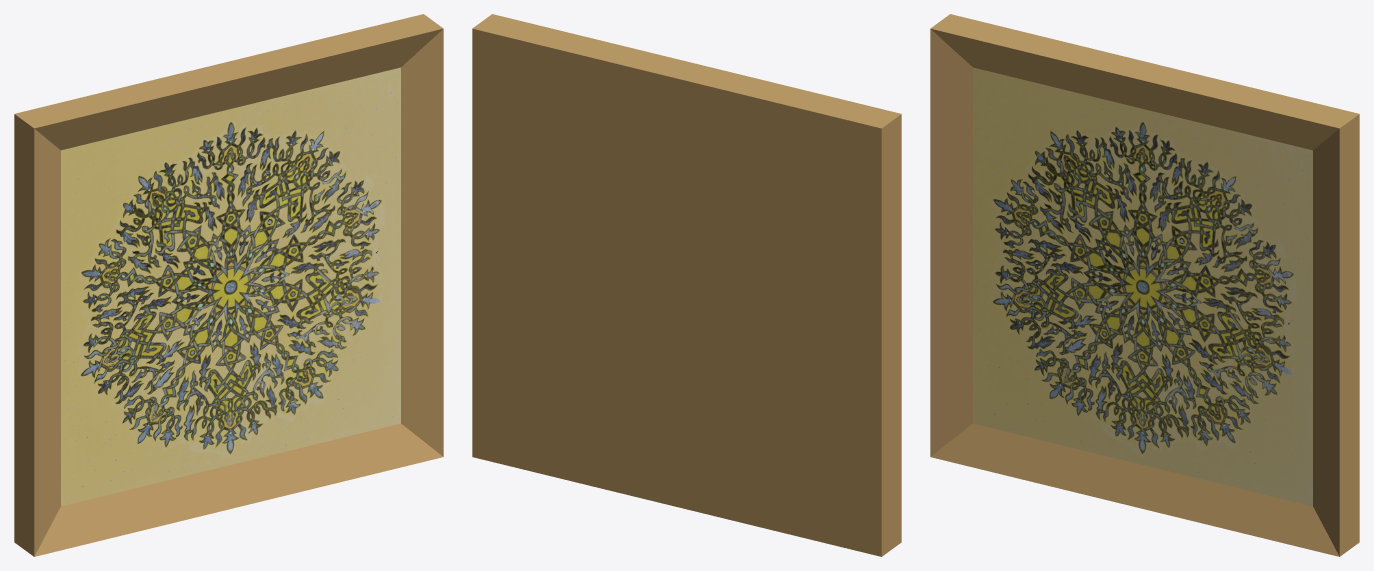
The model's file is slipper-orchids-orchids30-manipura-yellow-a3-natural-oak-v2.glb.
3 views of the same model, side by side, from view 1: azimuth 30°, elevation 25°; view 2: azimuth 150°, elevation 25°; view 3: azimuth 330°, elevation 25° (orthographic).
Visible parts, largest first — view 1: FramedPrint; view 2: FramedPrint; view 3: FramedPrint.
Boxes of the visible parts, x1,y1,x2,y2 form: FramedPrint: (14,14,443,556); FramedPrint: (472,14,901,556); FramedPrint: (930,14,1359,556).
Size of the model in its own units: 0.355 by 0.355 by 0.03.
2 materials, 1 textured.
